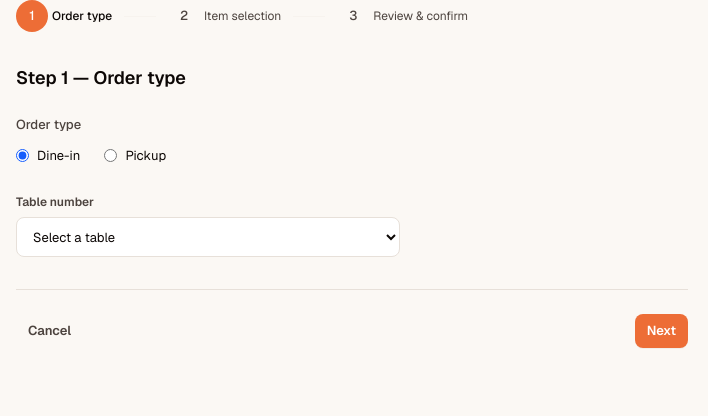
Scenario: OrderWizard › valid Step 1 advances to Step 2
This screenshot has width=708, height=416.
Click the radio button labelled "Pickup" at (111,156), box top-left (104, 149), bottom-right (117, 162)
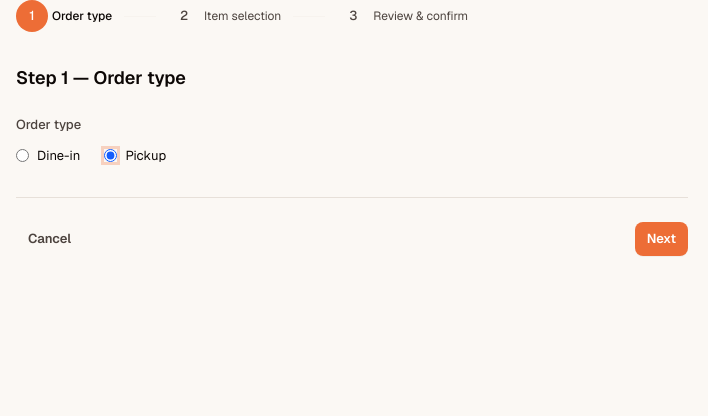
Click the button "Next" at (661,239), box top-left (635, 222), bottom-right (688, 256)
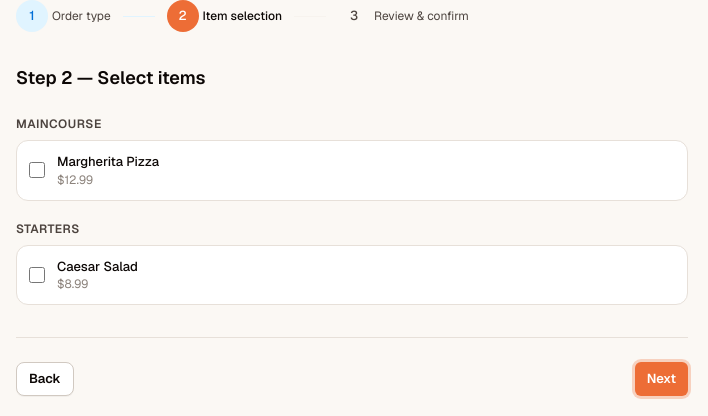
Result: the heading "Step 2 — Select items" is shown at top-left (16, 66), bottom-right (206, 89)
